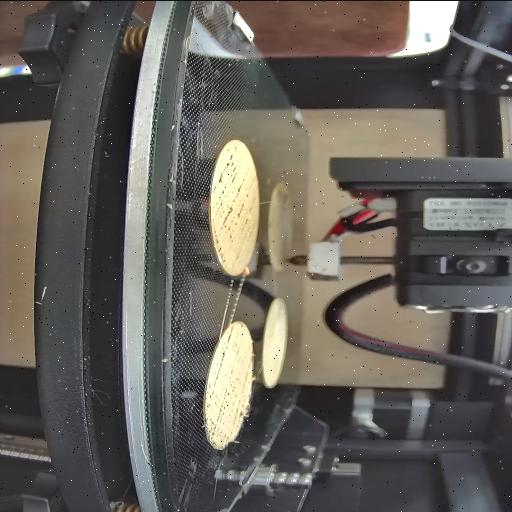under_extrusion: (216, 143, 252, 263), (209, 346, 253, 442), (222, 320, 244, 344)
